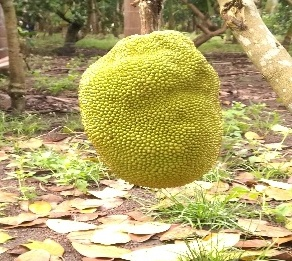Mit: (79, 28, 225, 185)
